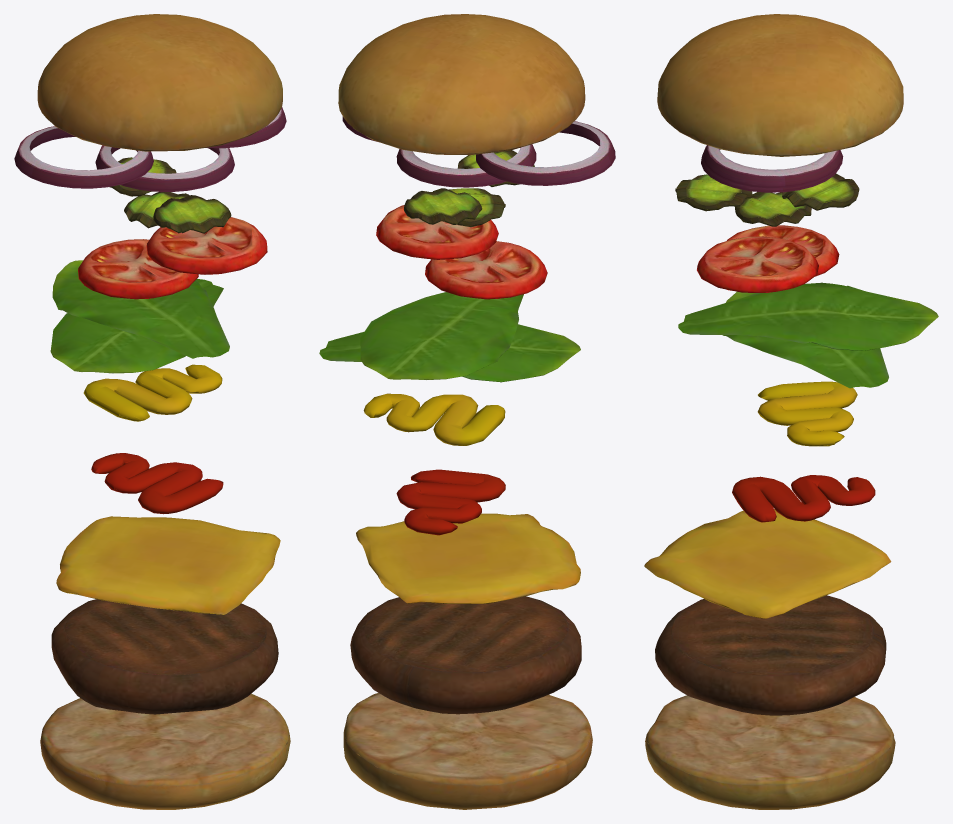
Rendered from cheeseburger.glb.
3 views of the same model, side by side, from view 1: azimuth 30°, elevation 25°; view 2: azimuth 150°, elevation 25°; view 3: azimuth 270°, elevation 25° (orthographic).
Visible parts, largest first — view 1: Object_40; view 2: Object_40; view 3: Object_40.
Part boxes in pixels (<box>): Object_40: <box>14,14,290,809</box>; Object_40: <box>319,14,615,809</box>; Object_40: <box>644,14,938,809</box>.
Bounding box in the file's own units: 0.1997 × 0.5475 × 0.2004.
Materials: 1 (1 with a texture image).
